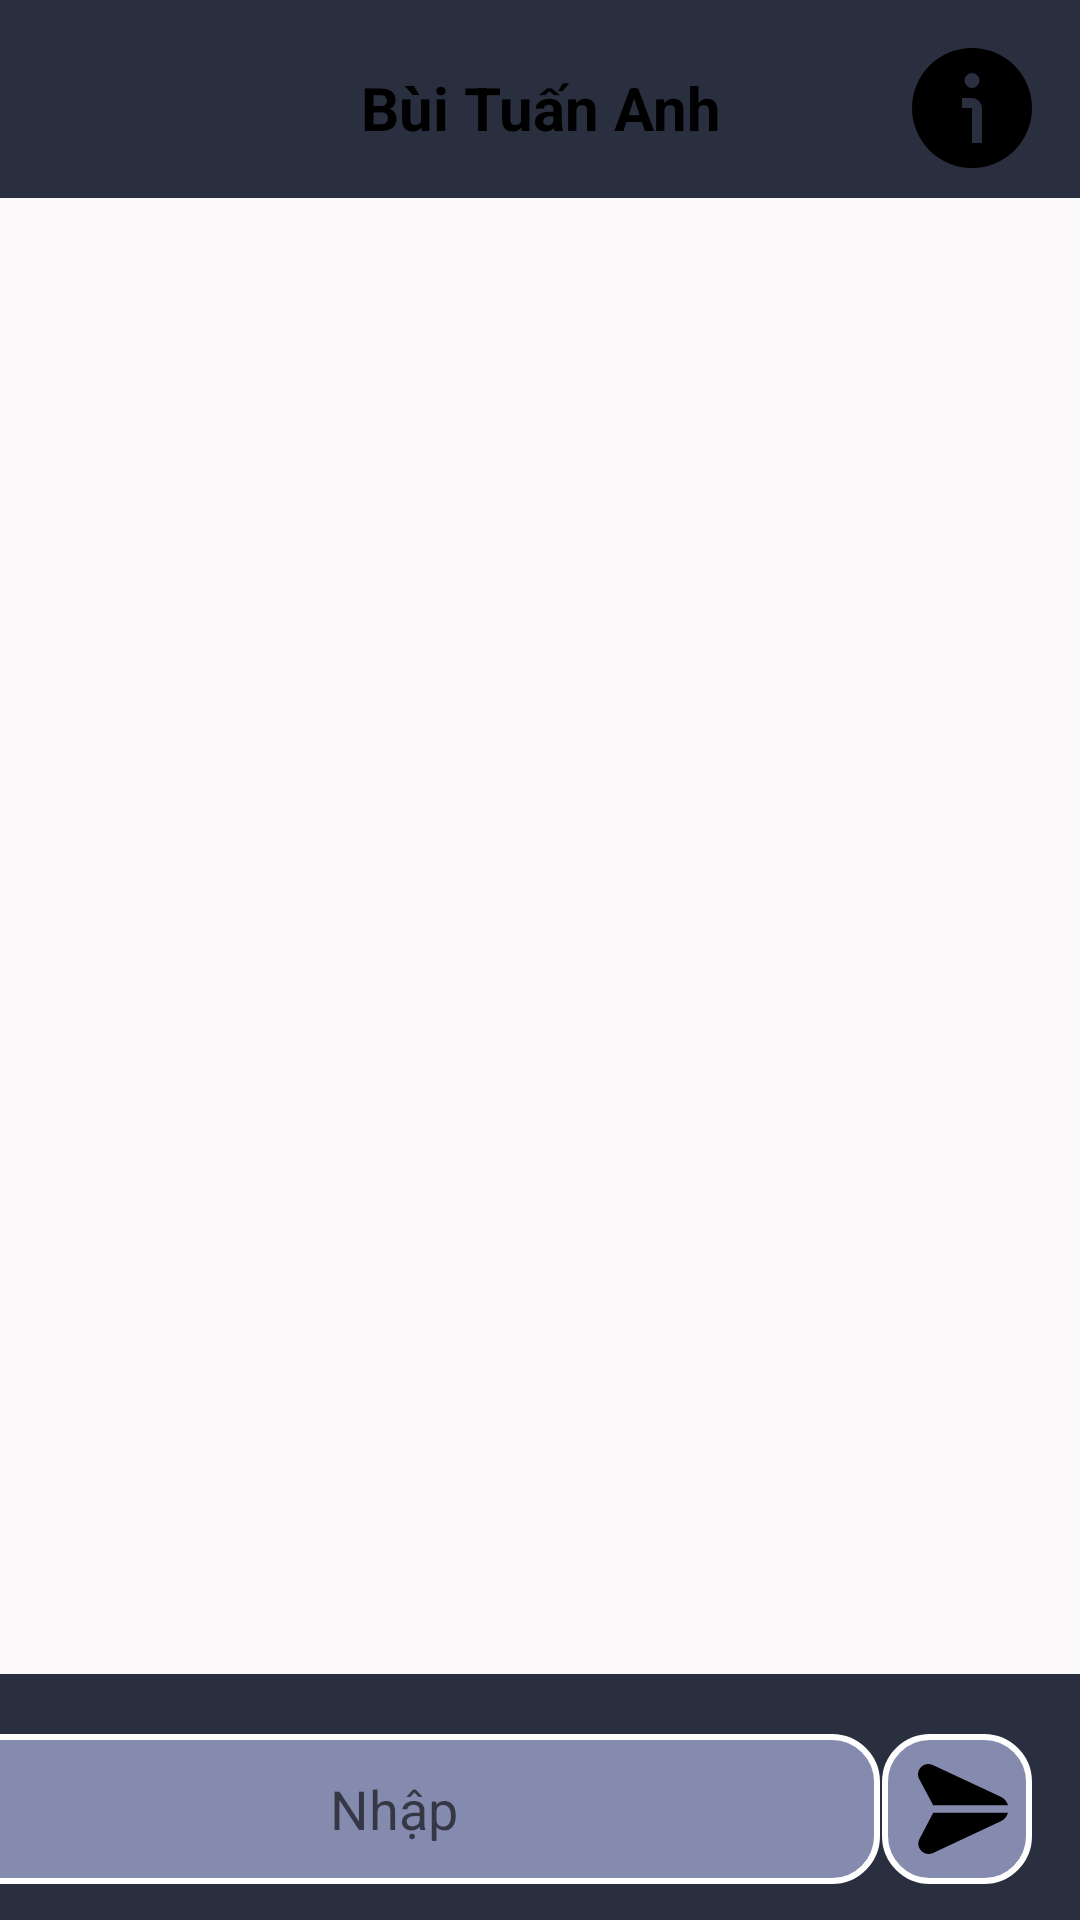

Point at icon controls on the screen. Image size 1080w x 1920h, points as point (x, y).
info: point (972, 108)
send: point (963, 1809)
